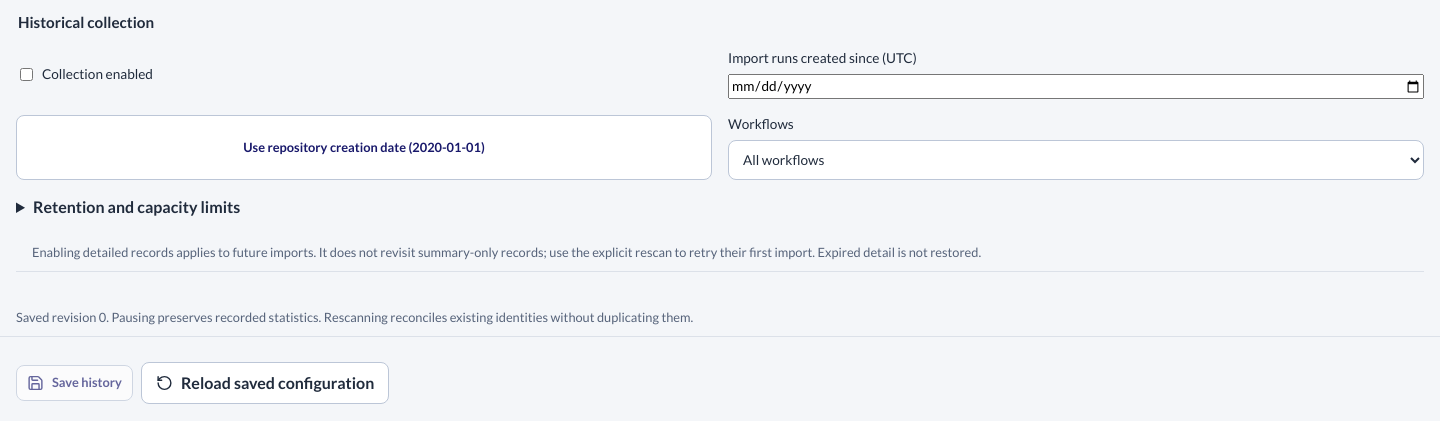
Test case: repository creation date is an explicit UTC shortcut, not an automatic write
Expected: the date field labelled "Import runs created since (UTC)" is empty, [728, 74, 1424, 99]
Expected: the button "Save history" is disabled, [16, 365, 133, 401]
Click the button "Use repository creation date (2020-01-01)" at [364, 148], box [16, 115, 712, 180]
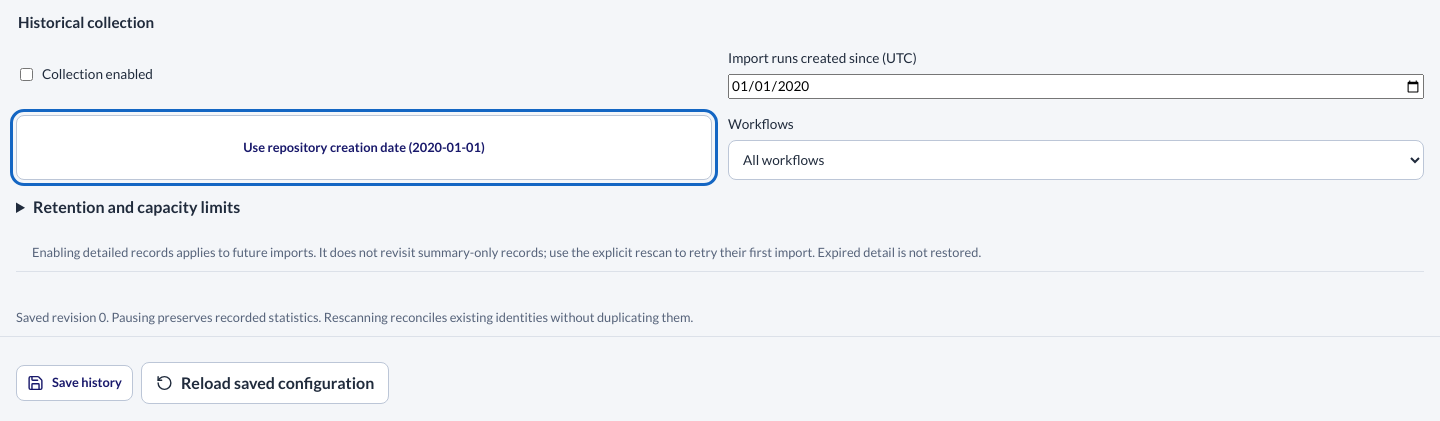
Expected: the date field labelled "Import runs created since (UTC)" holds "2020-01-01", [728, 74, 1424, 99]
Expected: the button "Save history" is enabled, [16, 365, 133, 401]
